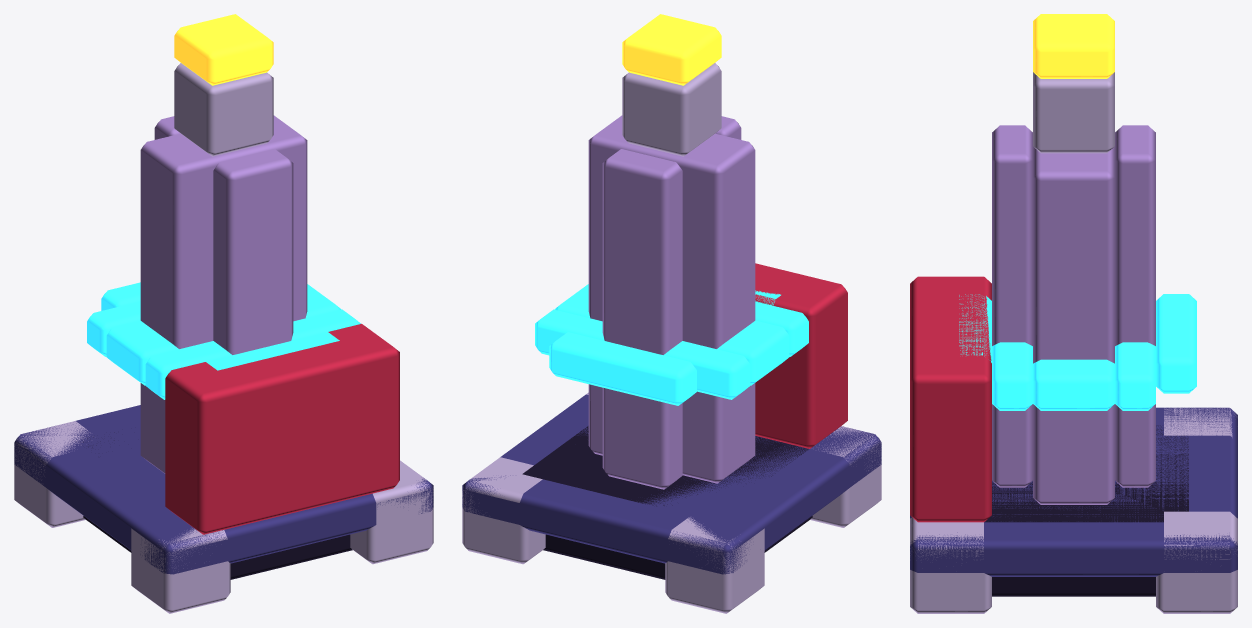
The model's file is capacitor.sm.glb.
The picture shows the model from 3 angles, left to right: view 1: azimuth 30°, elevation 25°; view 2: azimuth 150°, elevation 25°; view 3: azimuth 270°, elevation 25°; orthographic projection. The views are drawn at different scales.
Parts seen in each view (by area): view 1: capacitor.sm; view 2: capacitor.sm; view 3: capacitor.sm.
Part boxes in pixels (box(x1,y1,x2,y2)): capacitor.sm: box(14, 14, 433, 613); capacitor.sm: box(462, 14, 881, 613); capacitor.sm: box(910, 14, 1237, 613).
Bounding box in the file's own units: 0.5 × 0.875 × 0.5.
